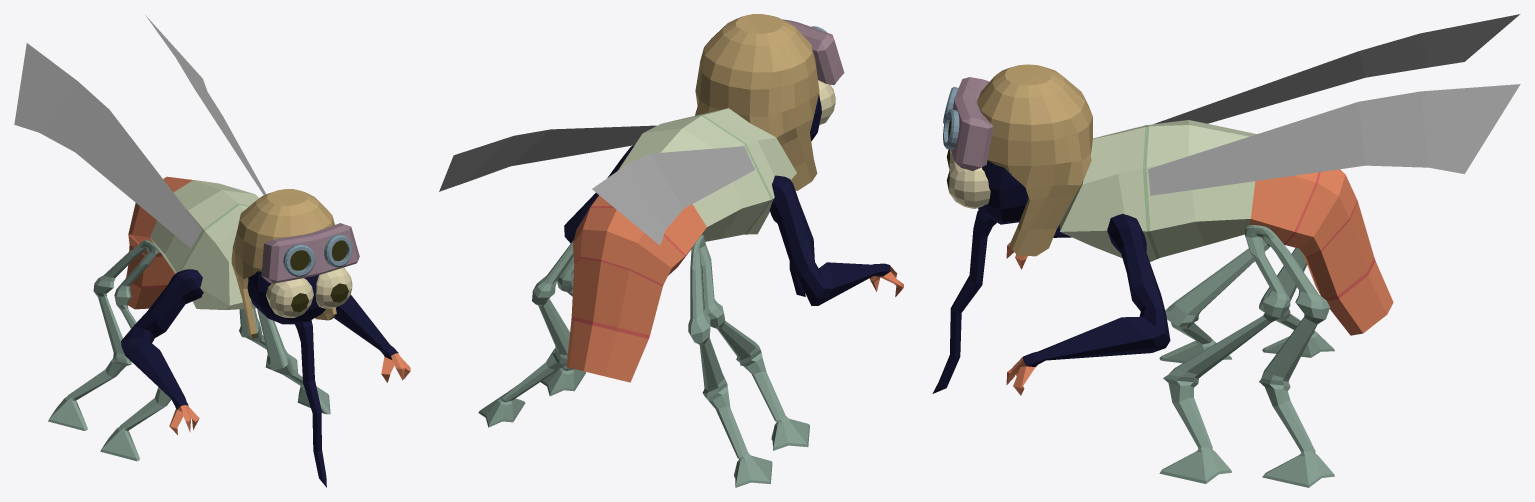
The model's file is Skm_ms_Warrior_Mosquito.fbx.
3 renders of one model, left to right at view 1: azimuth 30°, elevation 25°; view 2: azimuth 150°, elevation 25°; view 3: azimuth 270°, elevation 25°, orthographic. The views are drawn at different scales.
Parts seen in each view (by area): view 1: SoilderMosq1; view 2: SoilderMosq1; view 3: SoilderMosq1.
Part boxes in pixels (<box>): SoilderMosq1: <box>14,15,410,487</box>; SoilderMosq1: <box>439,14,903,487</box>; SoilderMosq1: <box>932,14,1520,487</box>.
Size of the model in its own units: 2.66 by 3.07 by 4.45.
